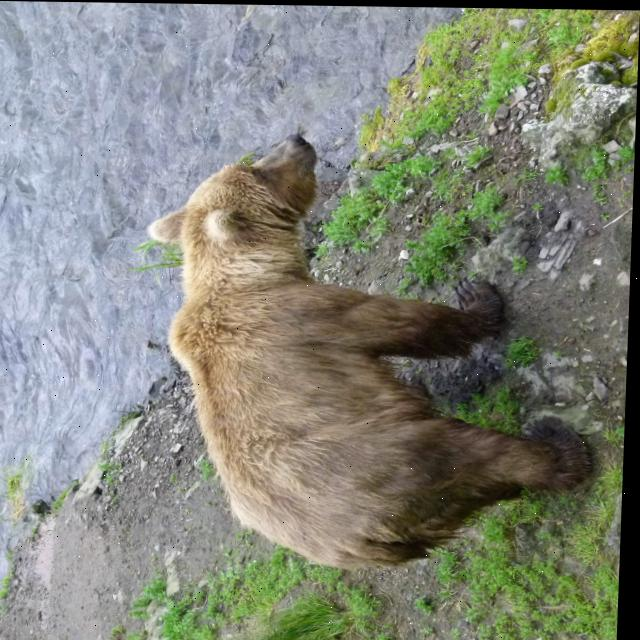bear face: (138, 130, 610, 572)
